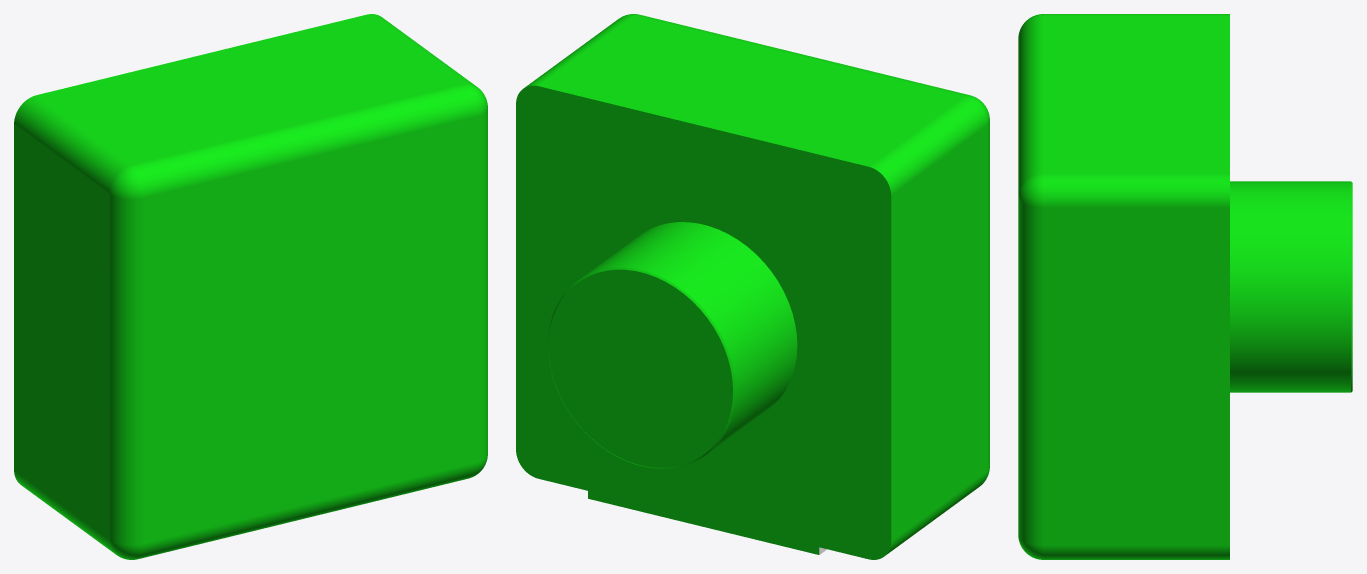
The model's file is holi_top_circle.obj.
3 renders of one model, left to right at view 1: azimuth 30°, elevation 25°; view 2: azimuth 150°, elevation 25°; view 3: azimuth 270°, elevation 25°, orthographic. The views are drawn at different scales.
Visible parts, largest first — view 1: mesh17, mesh21, mesh23, mesh20, mesh19, mesh12, mesh13, mesh22, mesh14, mesh24, mesh15; view 2: mesh25, mesh21, mesh23, mesh28, mesh26, mesh22, mesh20, mesh19, mesh27, mesh14, mesh15; view 3: mesh11, mesh23, mesh26, mesh13, mesh15, mesh19, mesh9, mesh18, mesh22, mesh27.
Part boxes in pixels (left/top/right/bottom): mesh17: left=144, top=117, right=474, bottom=543; mesh21: left=14, top=124, right=109, bottom=538; mesh23: left=37, top=14, right=461, bottom=164; mesh20: left=109, top=194, right=144, bottom=544; mesh19: left=132, top=84, right=474, bottom=197; mesh12: left=139, top=463, right=474, bottom=558; mesh13: left=475, top=109, right=487, bottom=462; mesh22: left=14, top=95, right=131, bottom=193; mesh14: left=14, top=470, right=114, bottom=553; mesh24: left=109, top=165, right=144, bottom=199; mesh15: left=367, top=14, right=474, bottom=85; mesh25: left=516, top=85, right=891, bottom=559; mesh21: left=891, top=126, right=986, bottom=540; mesh23: left=539, top=16, right=963, bottom=166; mesh28: left=548, top=269, right=732, bottom=467; mesh26: left=582, top=222, right=797, bottom=452; mesh22: left=869, top=97, right=986, bottom=195; mesh20: left=986, top=122, right=989, bottom=470; mesh19: left=634, top=14, right=967, bottom=96; mesh27: left=548, top=267, right=735, bottom=468; mesh14: left=886, top=472, right=986, bottom=554; mesh15: left=525, top=15, right=633, bottom=87; mesh11: left=1043, top=207, right=1229, bottom=545; mesh23: left=1043, top=16, right=1229, bottom=173; mesh26: left=1230, top=181, right=1350, bottom=392; mesh13: left=1018, top=198, right=1043, bottom=545; mesh15: left=1043, top=174, right=1229, bottom=207; mesh19: left=1018, top=16, right=1043, bottom=193; mesh9: left=1043, top=545, right=1229, bottom=559; mesh18: left=1018, top=174, right=1043, bottom=207; mesh22: left=1043, top=14, right=1229, bottom=16; mesh27: left=1351, top=181, right=1352, bottom=392.
Size of the model in its own units: 0.05 by 0.051 by 0.0395.
